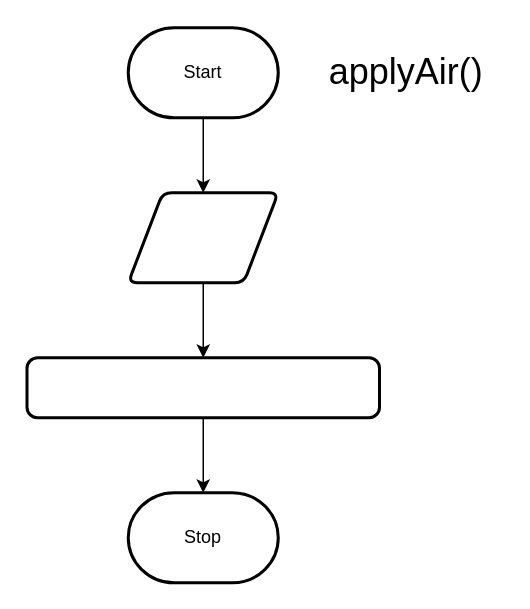
Image size: 530x609. Some labels were removed from this diagram. The shapes that lost their labels are listed below. From the top down, each one's centre as x and y in pixels, then its label:
pixel 202 237: Get airPressure
pixel 202 387: this.speed = this.speed - airPressure / 2
